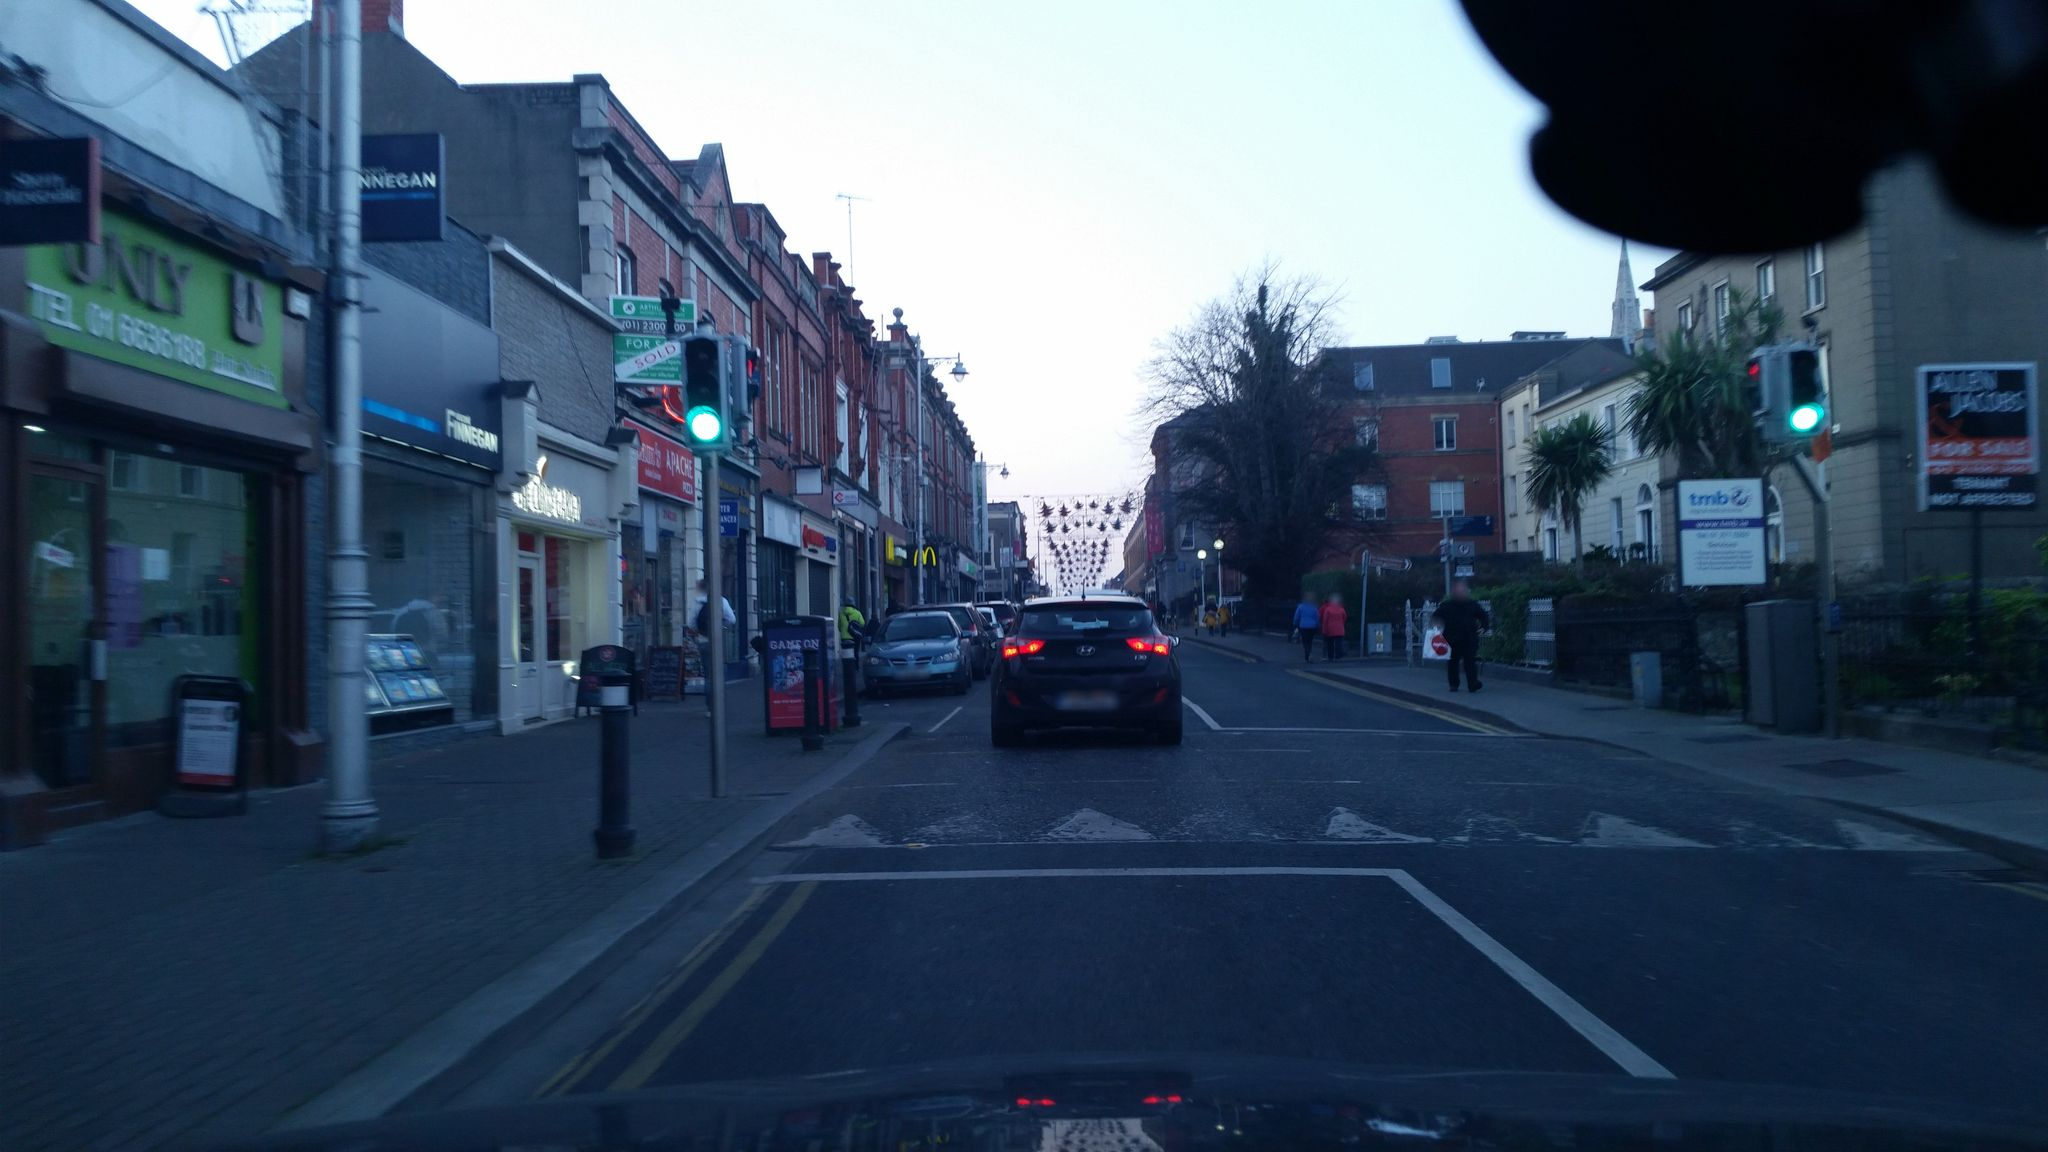property sign: (1903, 349, 2048, 537), (603, 266, 693, 390)
